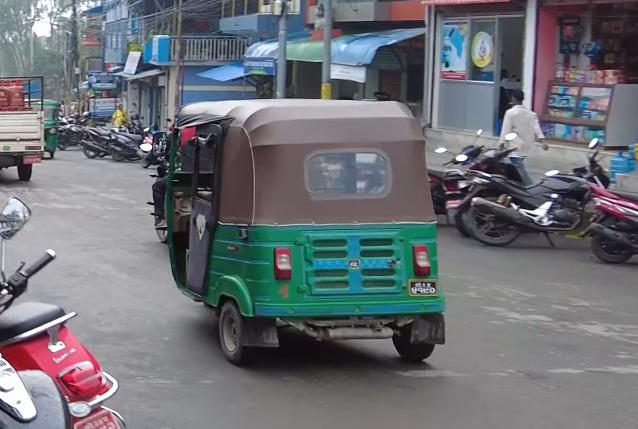auto_rickshaw: (159, 94, 452, 371)
